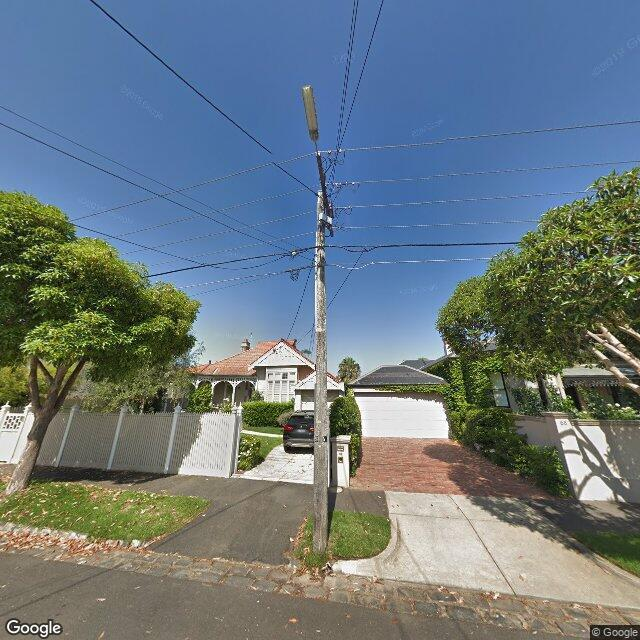crossarm: (315, 148, 361, 238)
streetlight: (302, 86, 319, 153)
timber-pole: (312, 189, 331, 553)
